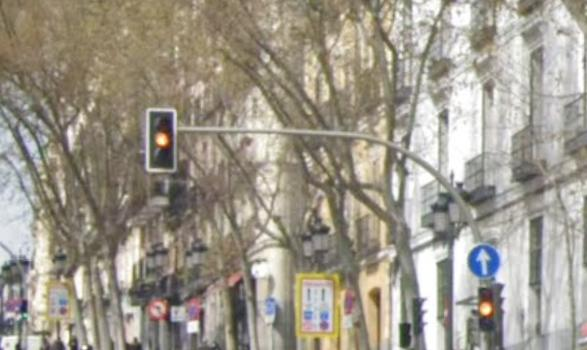yellow_light: (146, 108, 176, 172), (478, 287, 495, 332)
